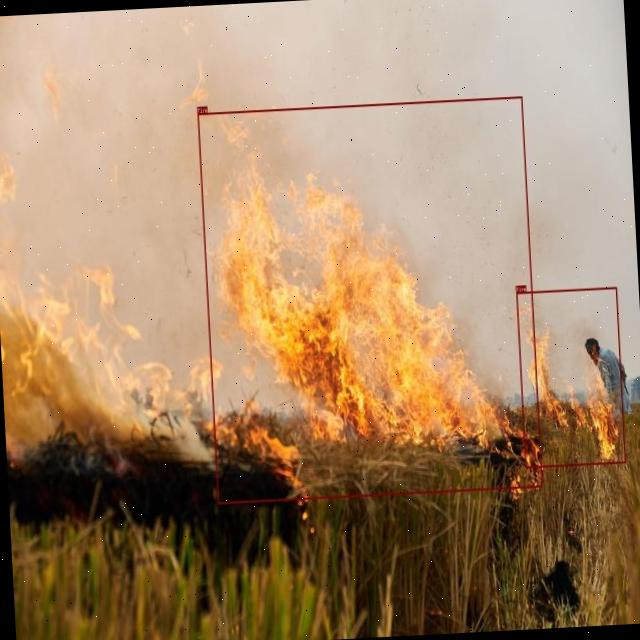fire: (198, 96, 543, 504), (516, 286, 626, 468)
